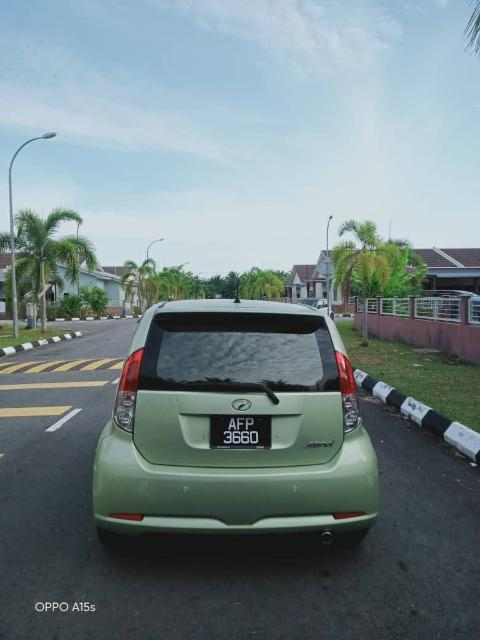License_Plate: (209, 416, 273, 453)
car: (95, 297, 387, 555)
